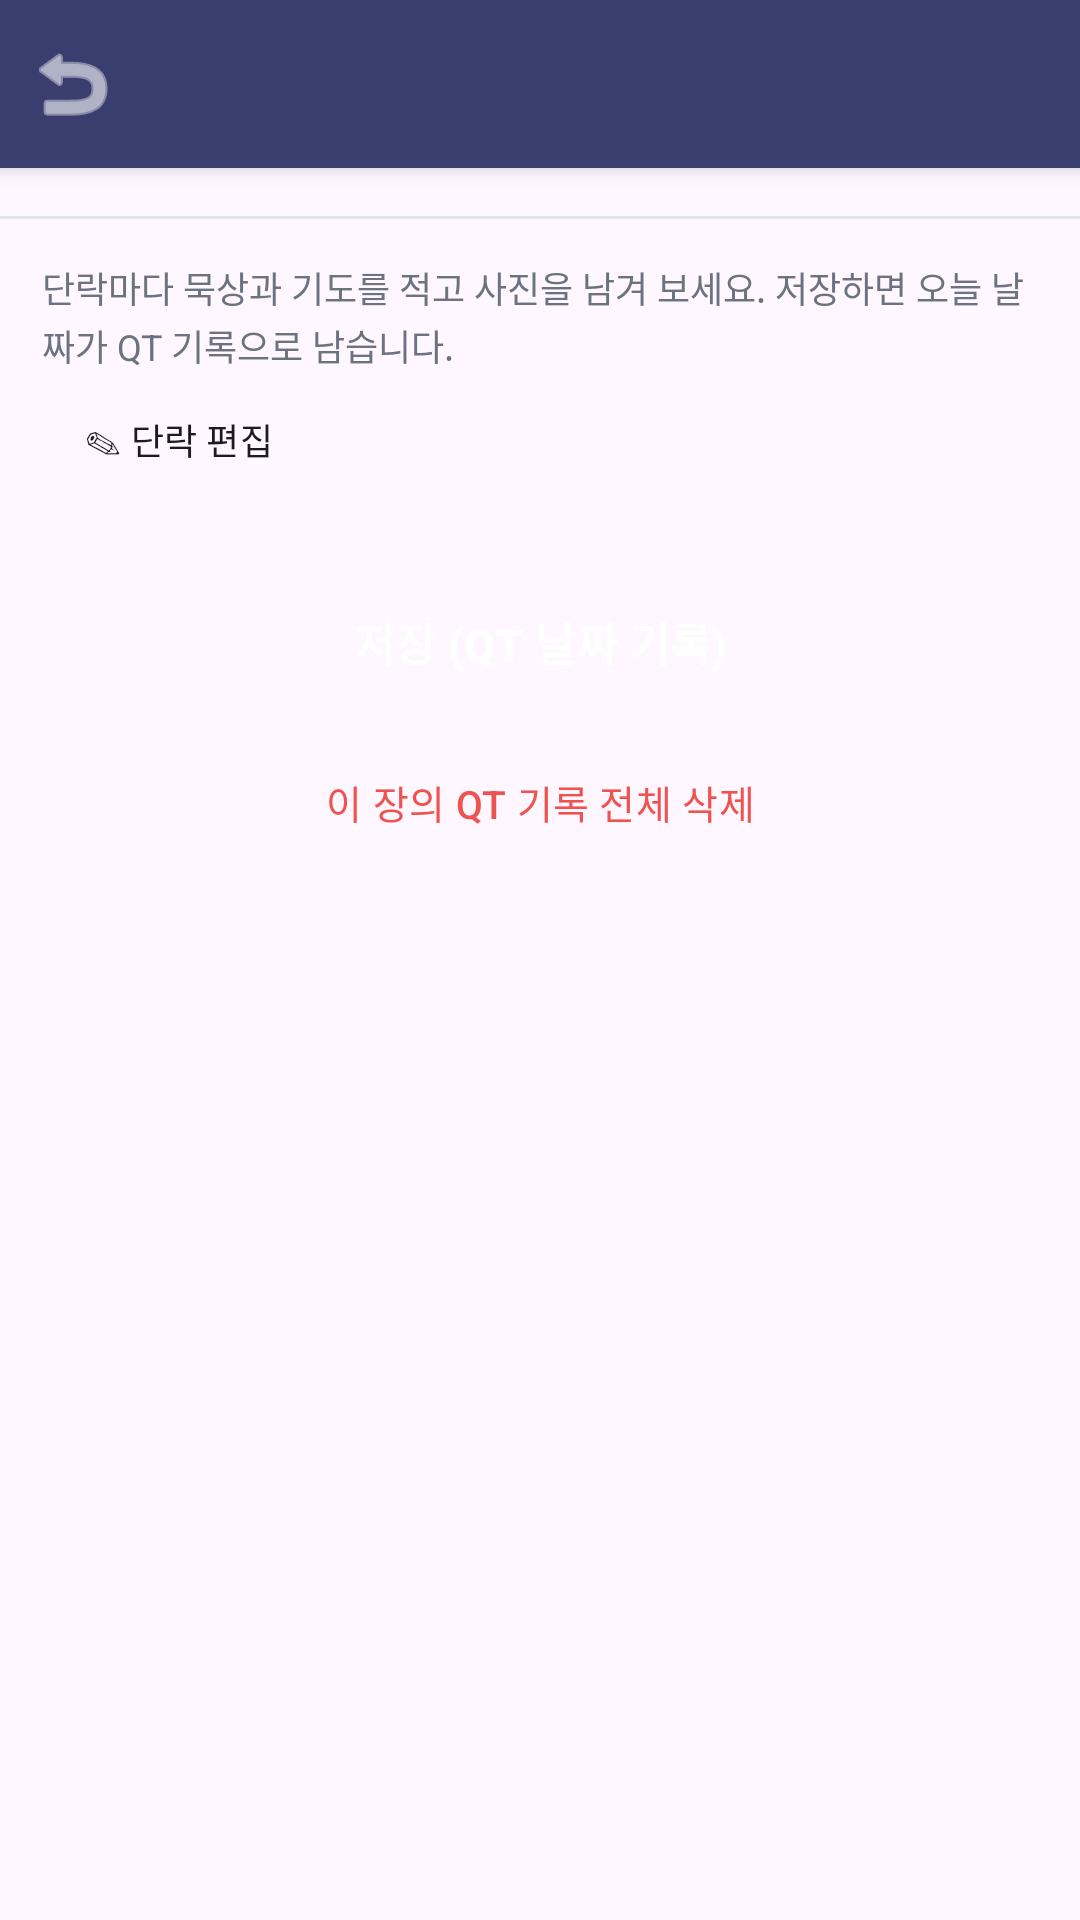

Locate icon controls on the screen. Image size 1080×1920, boxes as [x1,y1,x2,y2].
뒤로: [39,53,108,116]
